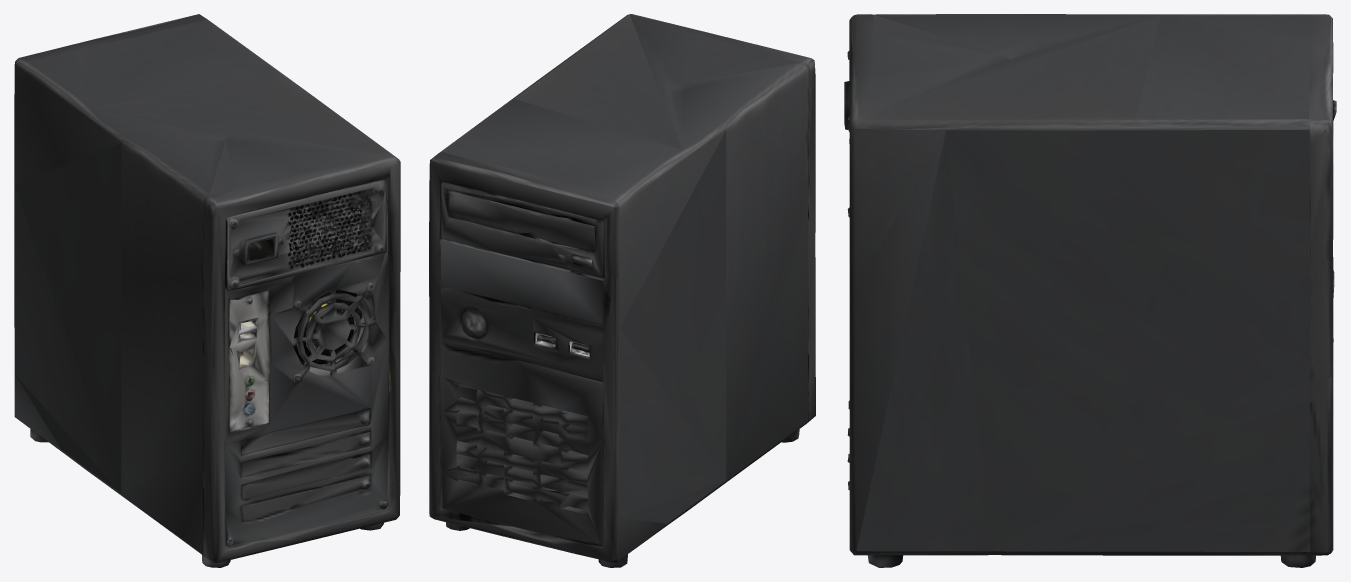
File: computer-tower-v67.glb
3 views of the same model, side by side, from view 1: azimuth 30°, elevation 25°; view 2: azimuth 150°, elevation 25°; view 3: azimuth 270°, elevation 25° (orthographic). The views are drawn at different scales.
Visible parts, largest first — view 1: computer-tower-surface; view 2: computer-tower-surface; view 3: computer-tower-surface.
Part boxes in pixels (left/top/right/bottom): computer-tower-surface: left=14, top=14, right=400, bottom=567; computer-tower-surface: left=429, top=14, right=815, bottom=567; computer-tower-surface: left=844, top=14, right=1336, bottom=567.
Size of the model in its own units: 0.2663 by 0.4997 by 0.4963.
1 material, 1 textured.
